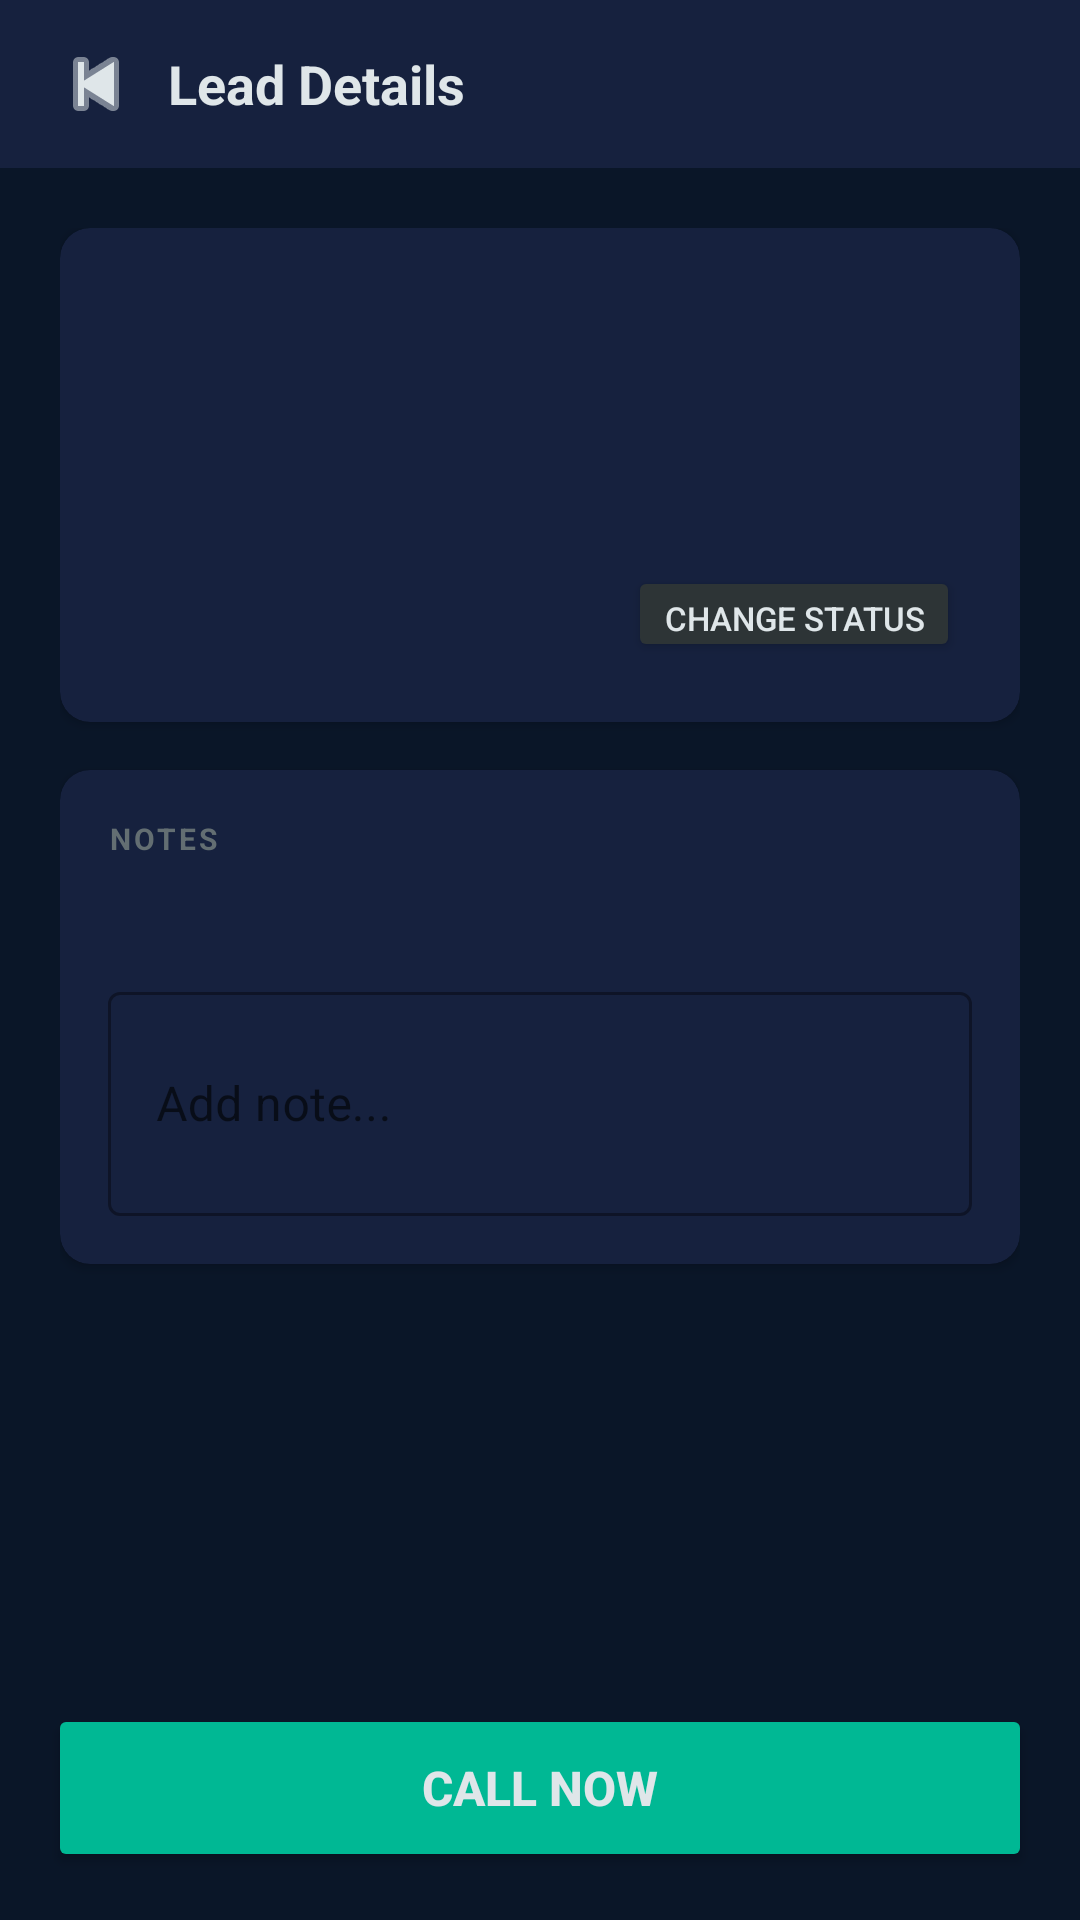

Icons on this 1080 × 1920 Android screen, each with its box as (x1, y1, x2, y2):
previous: (73, 57, 119, 111)
